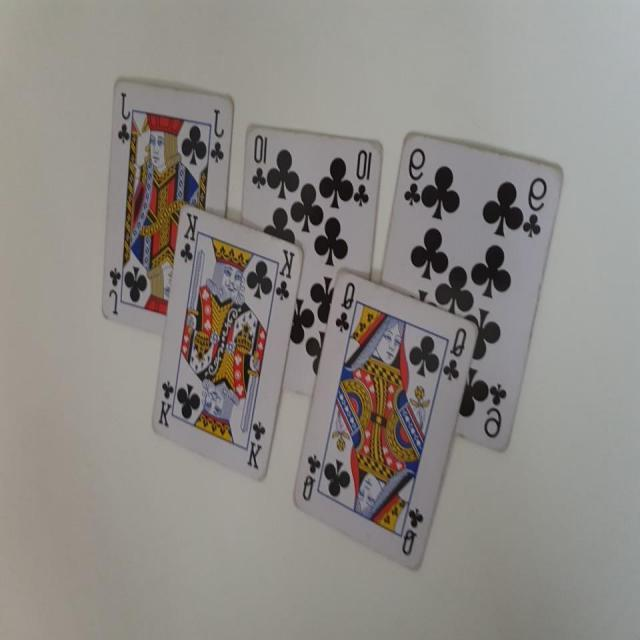10 of clubs: (242, 122, 386, 392)
9 of clubs: (382, 130, 565, 458)
jack of clubs: (100, 74, 235, 336)
king of clubs: (150, 203, 305, 482)
queen of clubs: (292, 266, 481, 570)
